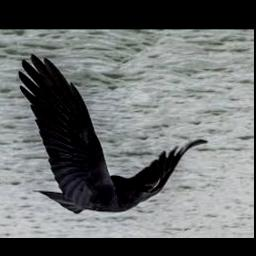Crow: (18, 55, 209, 216)
